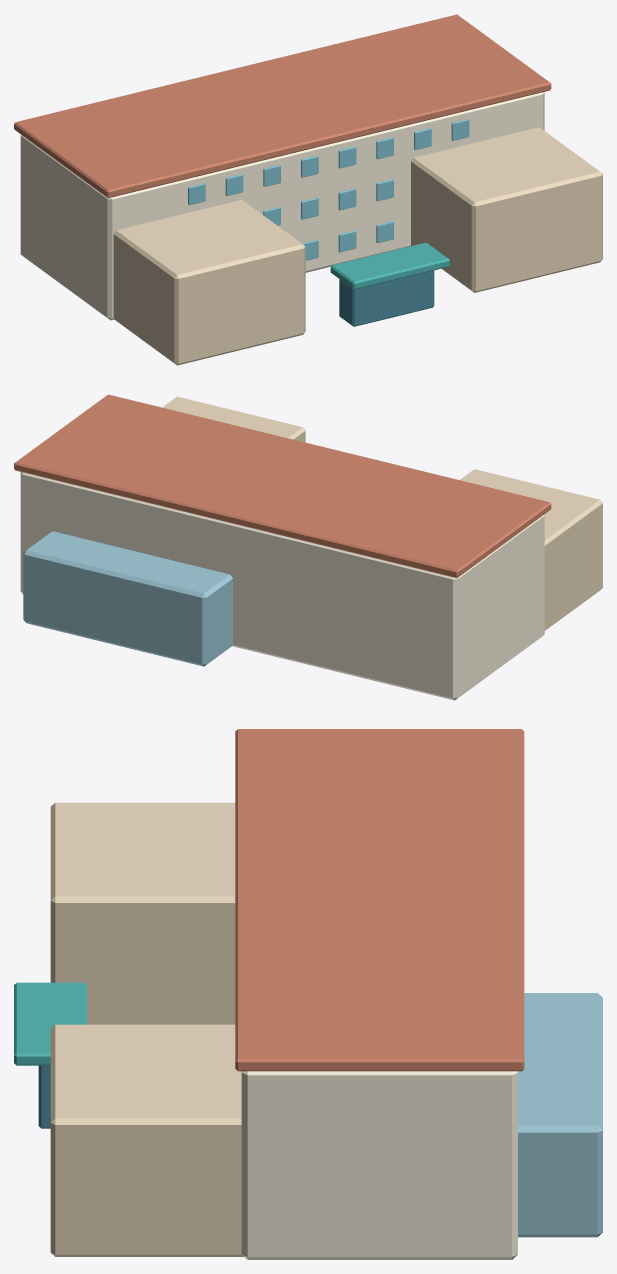
Rendered from EDU_SCHOOL_4x3_002.glb.
3 views of the same model, one above another, from view 1: azimuth 30°, elevation 25°; view 2: azimuth 150°, elevation 25°; view 3: azimuth 270°, elevation 25° (orthographic). The views are drawn at different scales.
Visible parts, largest first — view 1: EDU_SCHOOL_4x3_002_Visual; view 2: EDU_SCHOOL_4x3_002_Visual; view 3: EDU_SCHOOL_4x3_002_Visual.
Part boxes in pixels (<box>): EDU_SCHOOL_4x3_002_Visual: <box>14,14,602,365</box>; EDU_SCHOOL_4x3_002_Visual: <box>14,394,602,700</box>; EDU_SCHOOL_4x3_002_Visual: <box>14,729,602,1259</box>.
Size of what is drawn, in the model's own units: 7.32 by 2.11 by 5.49.
